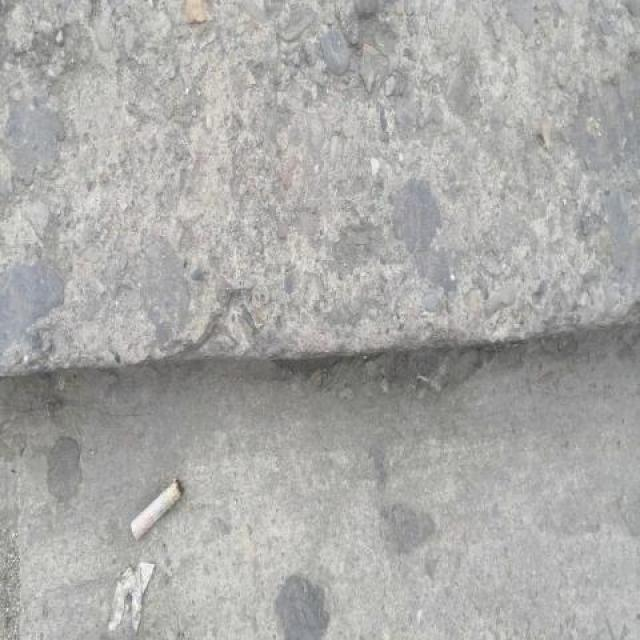non-organic waste: (126, 476, 189, 548)
